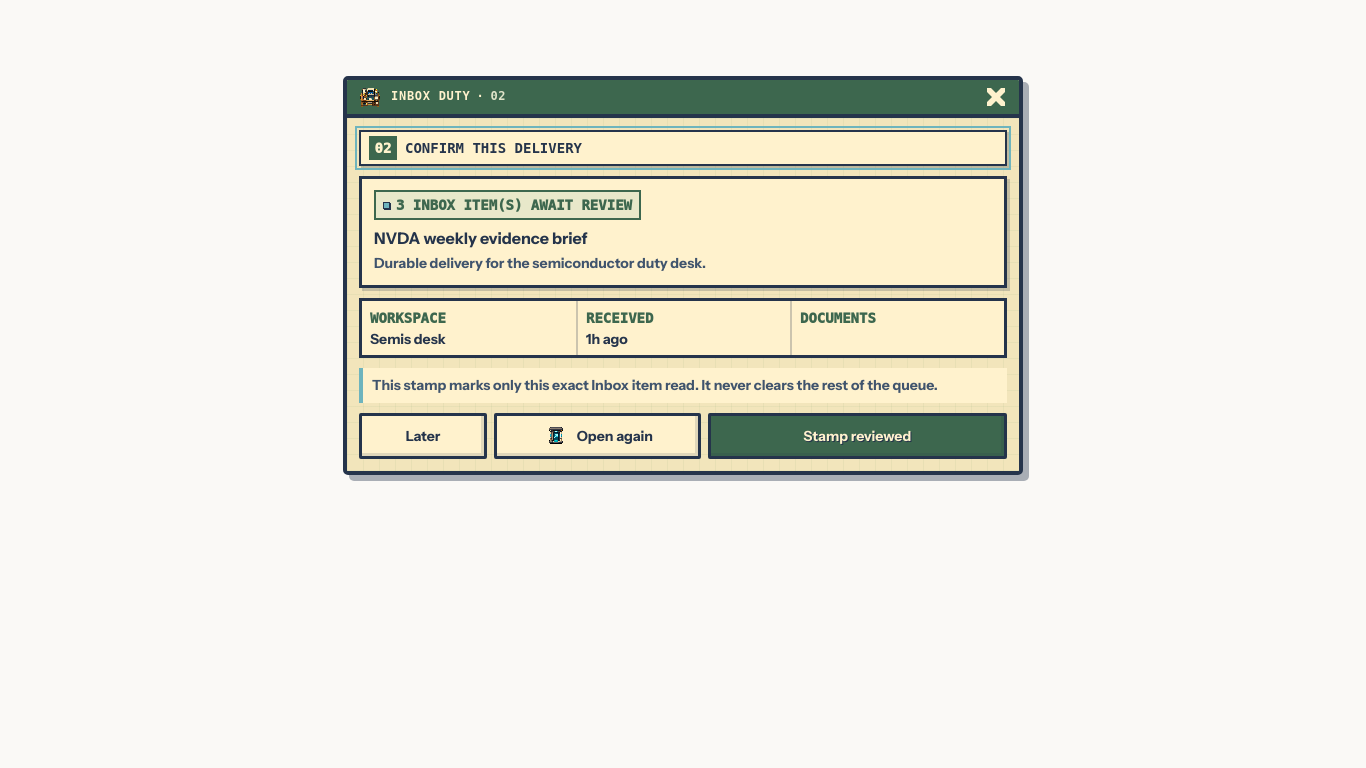
Test: OfficeInboxDutyDossier › keeps the dossier locked while Later persists and restores retry after failure
The width and height of the screenshot is (1366, 768).
Click the button "Later": (423, 436) [359, 413, 487, 459]
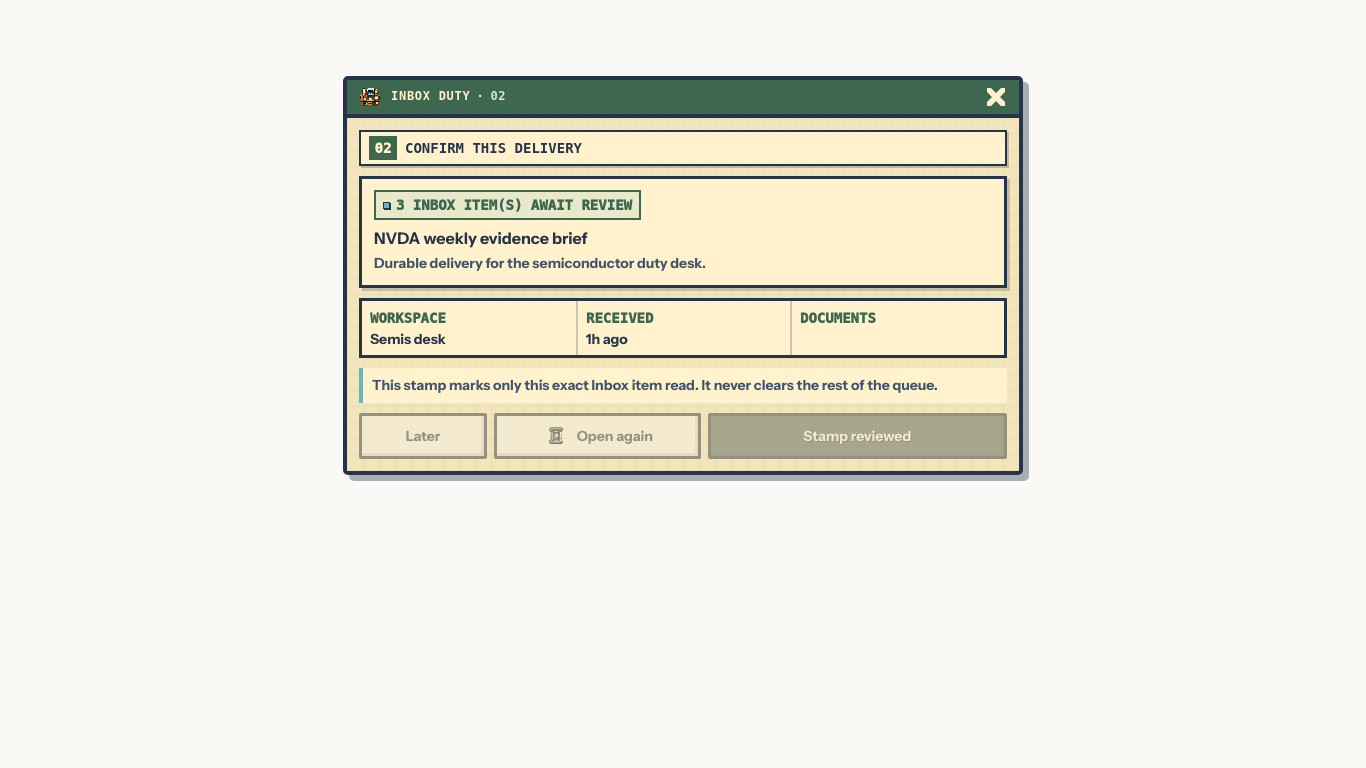
Check: the button "Later" is disabled, box [359, 413, 487, 459]
Check: the button "Open again" is disabled, box [494, 413, 700, 459]
Check: the button "Stamp reviewed" is disabled, box [708, 413, 1007, 459]
Press Escape in the dialog named "NVDA weekly evidence brief", box [343, 76, 1023, 475]
Click the button "Later": (423, 436) [359, 413, 487, 459]
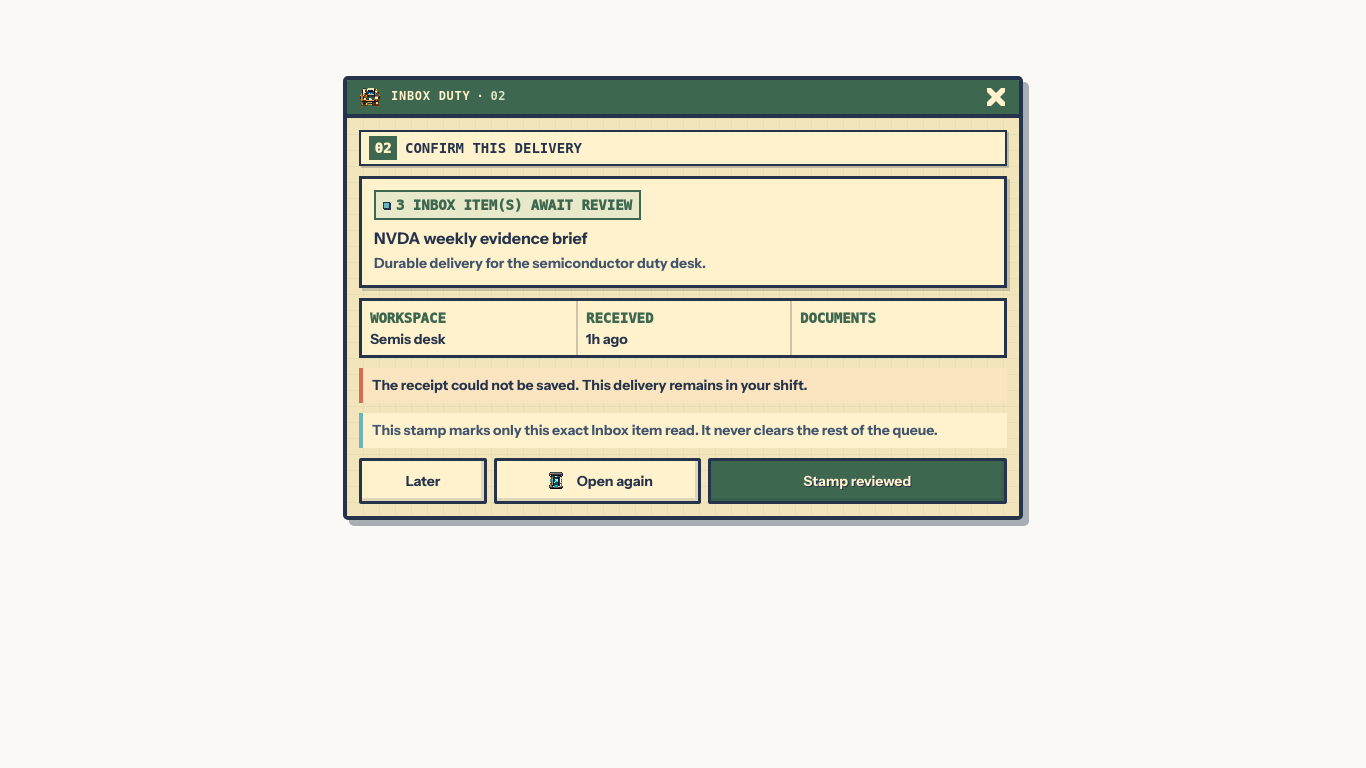
Check: the button named "Close" is enabled, box [980, 81, 1012, 113]
Check: the message reads "The receipt could not be saved. This delivery remains in your shift.", box [372, 376, 808, 394]
Check: the button "Later" is enabled
Click the button "Later": (423, 481) [359, 458, 487, 504]
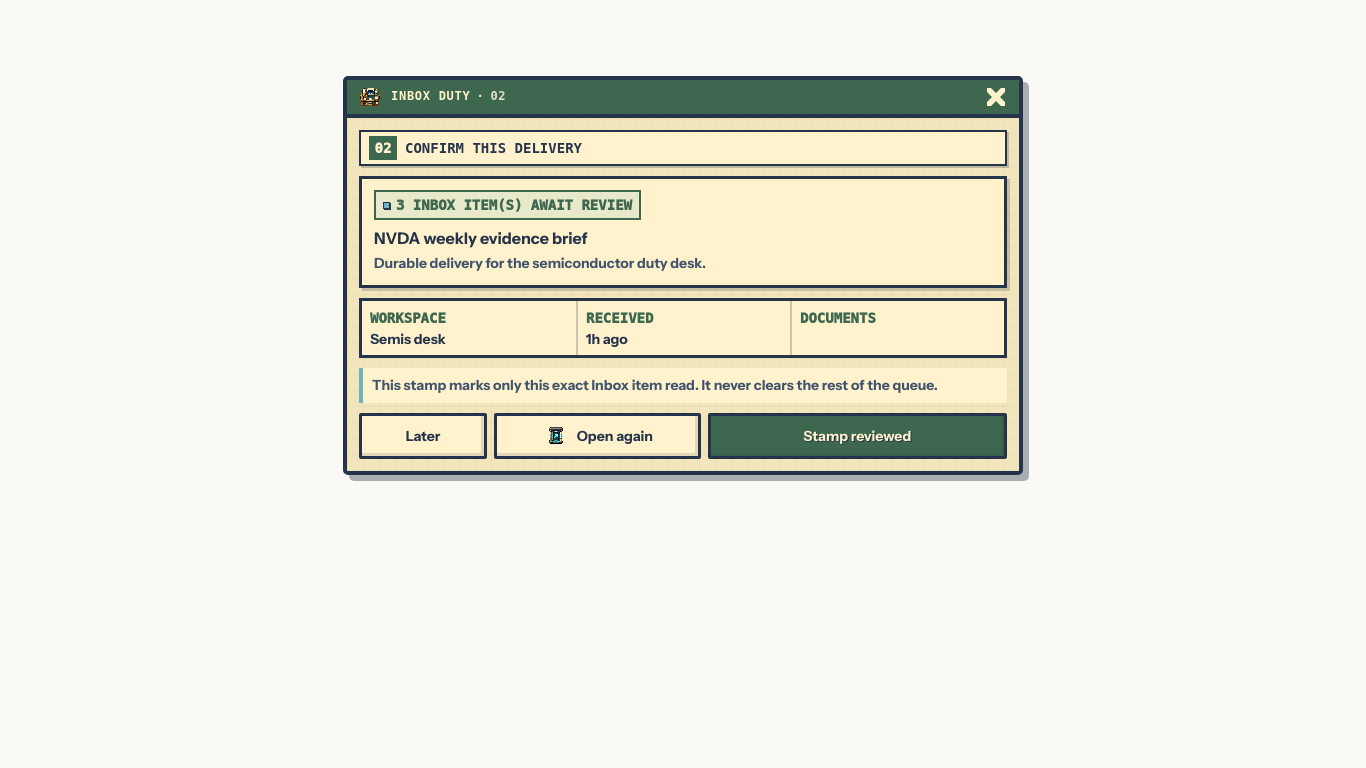
Check: the message "The receipt could not be saved. This delivery remains in your shift." is gone
